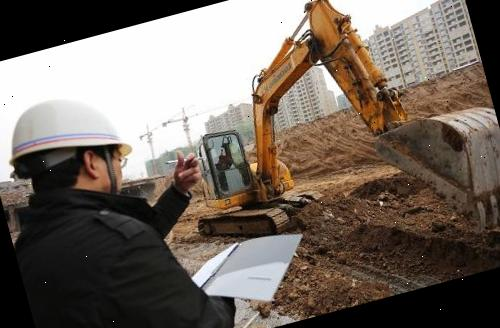helmet: (0, 82, 134, 187)
no_wear: (10, 189, 232, 328)
